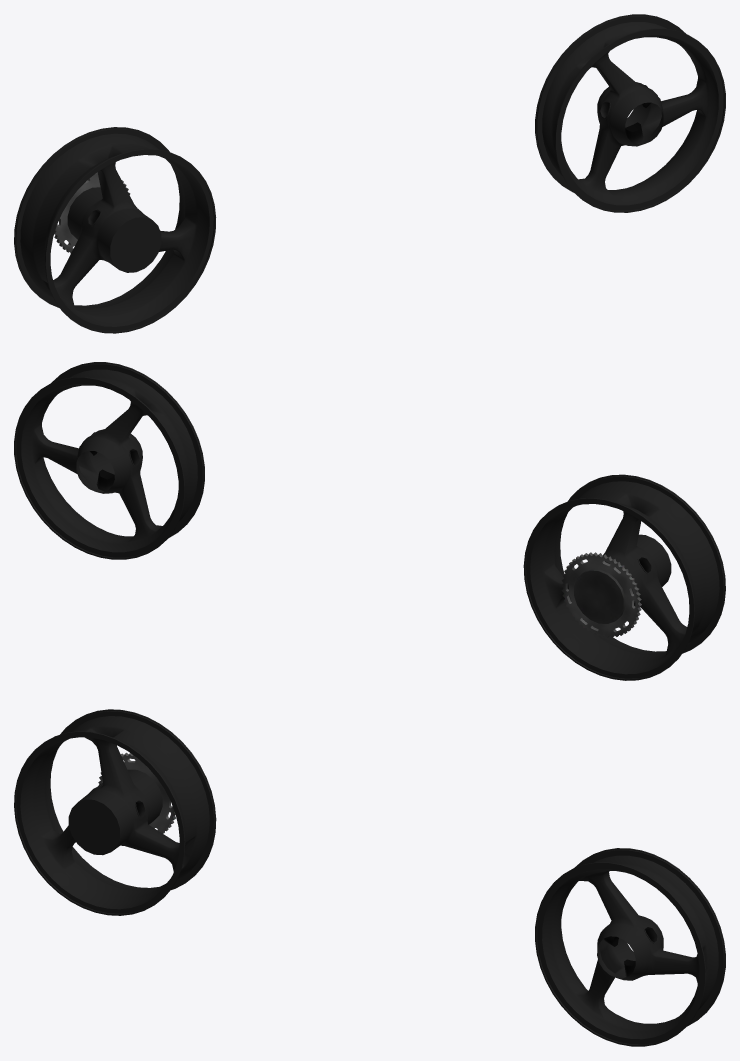
The model's file is wheels_stock.obj.
The picture shows the model from 3 angles, top to bottom: view 1: azimuth 30°, elevation 25°; view 2: azimuth 150°, elevation 25°; view 3: azimuth 330°, elevation 25°; orthographic projection.
Parts seen in each view (by area): view 1: polySurface1358, polySurface1259 polySurface821; view 2: polySurface1358, polySurface1259 polySurface821; view 3: polySurface1358, polySurface1259 polySurface821.
Part boxes in pixels (box(x1,y1,x2,y2)): polySurface1358: box(14, 127, 216, 333); polySurface1259 polySurface821: box(535, 14, 725, 212); polySurface1358: box(523, 474, 725, 680); polySurface1259 polySurface821: box(14, 362, 204, 559); polySurface1358: box(14, 709, 216, 915); polySurface1259 polySurface821: box(535, 848, 725, 1046).
Bounding box in the file's own units: 72.35 × 18.96 × 8.61.
1 material, 1 textured.
